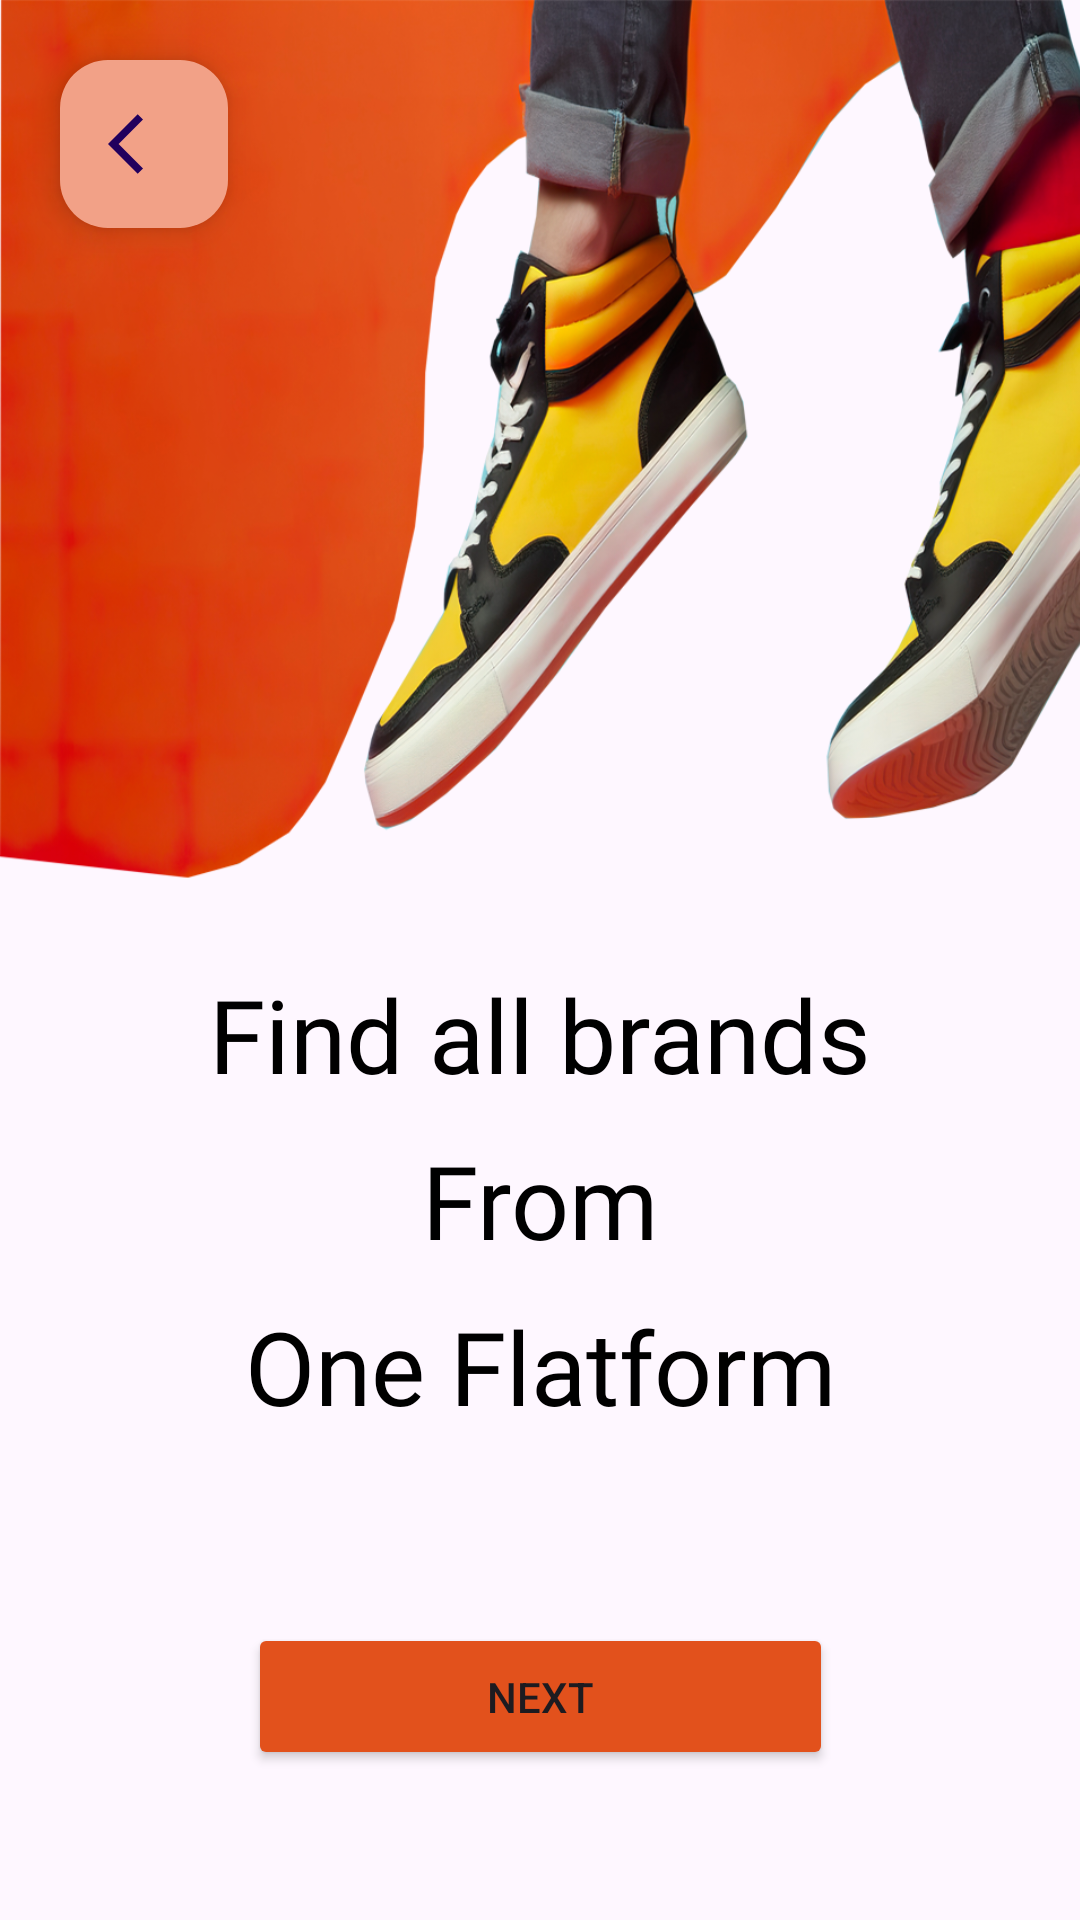

Icons on this 1080w x 1920h Android screen, each with the point to tap as point (x, y):
arrow back: point (144, 144)
